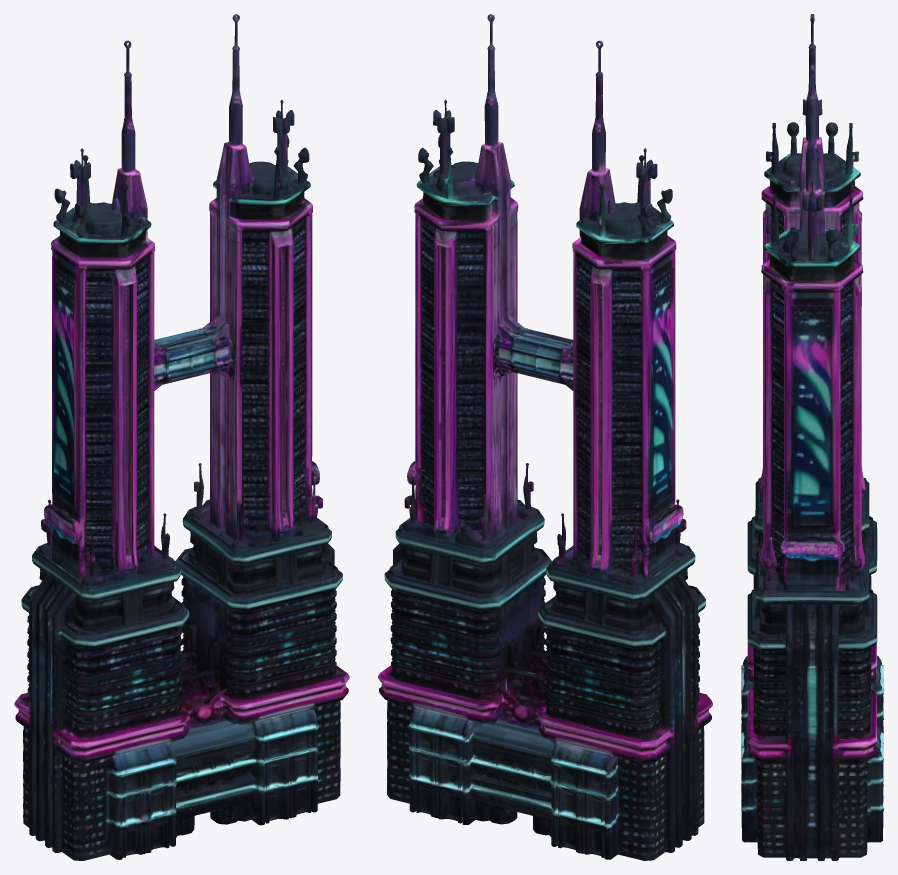
Rendered from tower-b.glb.
3 renders of one model, left to right at view 1: azimuth 30°, elevation 25°; view 2: azimuth 150°, elevation 25°; view 3: azimuth 270°, elevation 25°, orthographic. The views are drawn at different scales.
Visible parts, largest first — view 1: material; view 2: material; view 3: material.
Boxes of the visible parts, x1=… form: material: x1=14, y1=14, x2=349, y2=860; material: x1=378, y1=14, x2=712, y2=860; material: x1=741, y1=14, x2=883, y2=860.
Size of the model in its own units: 0.4226 by 1.12 by 0.1925.
1 material, 1 textured.
